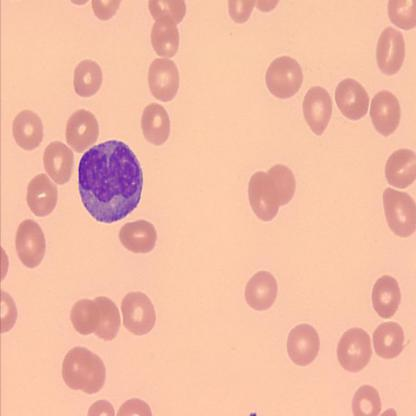Segmented neutrophil: (76, 136, 144, 226)
